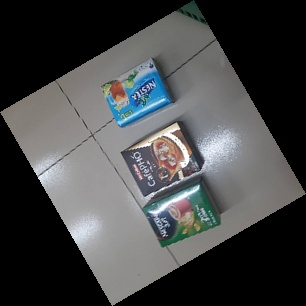CF pho: (118, 121, 203, 198)
Nes Rang: (142, 175, 220, 250)
Nestea: (100, 58, 174, 129)
